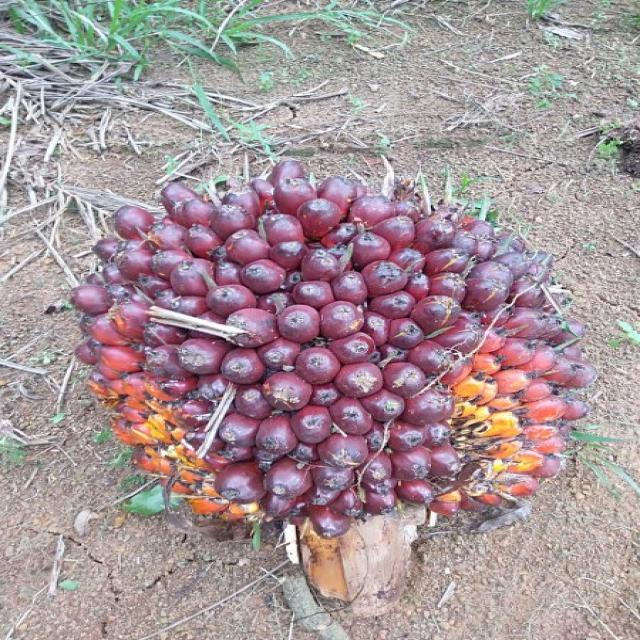fraksi 1: (55, 105, 640, 584)
